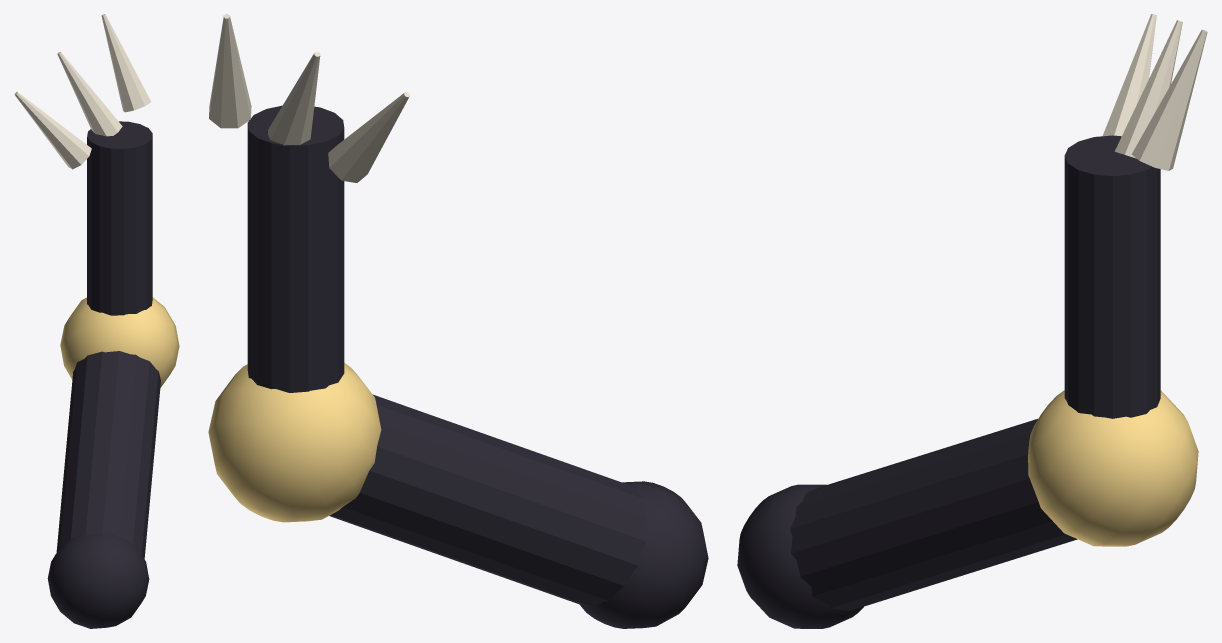
The model's file is SM_Keeper_Wepwawet_Leg1m1.fbx.
3 views of the same model, side by side, from view 1: azimuth 30°, elevation 25°; view 2: azimuth 150°, elevation 25°; view 3: azimuth 270°, elevation 25° (orthographic). The views are drawn at different scales.
Visible parts, largest first — view 1: SM_Keeper_Wepwawet_Leg1m1; view 2: SM_Keeper_Wepwawet_Leg1m1; view 3: SM_Keeper_Wepwawet_Leg1m1.
Boxes of the visible parts, bbox=[...] form: SM_Keeper_Wepwawet_Leg1m1: bbox=[14, 14, 179, 628]; SM_Keeper_Wepwawet_Leg1m1: bbox=[208, 14, 708, 628]; SM_Keeper_Wepwawet_Leg1m1: bbox=[737, 14, 1207, 628].
Size of the model in its own units: 1.15 by 2.38 by 1.47.
